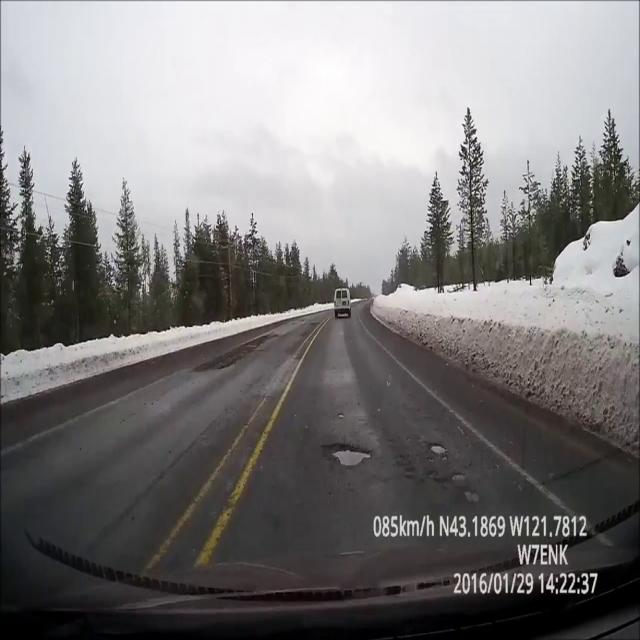Pothole: (191, 330, 277, 376), (317, 441, 377, 468), (309, 322, 320, 326)
